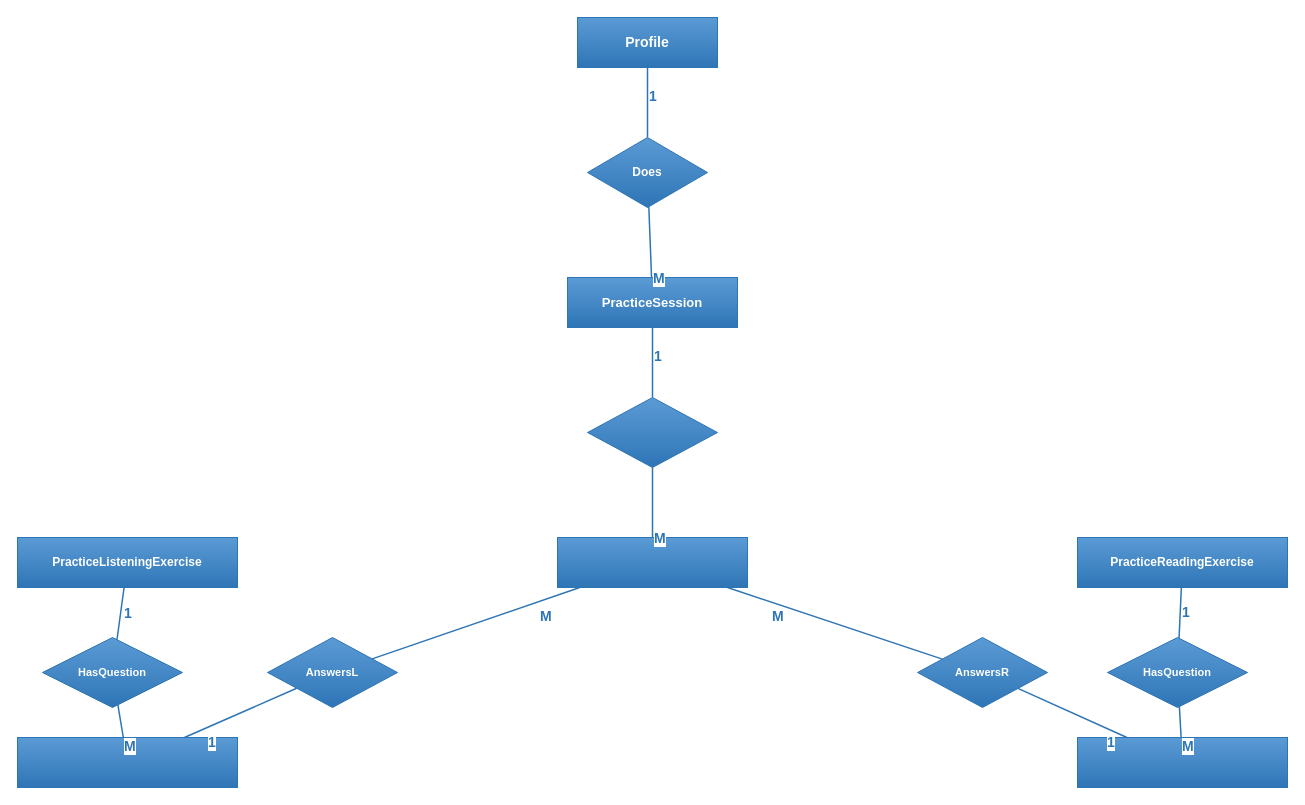
Image size: 1305x805. Some labels were removed from this diagram. Here are the shapes that lost their labels. From the top down, the centre of each, then its label:
At (652,432): "HasAnswer".
At (652,562): "PracticeMcqAnswer".
At (127,762): "PracticeListeningQuestion".
At (1182,762): "PracticeReadingQuestion".
